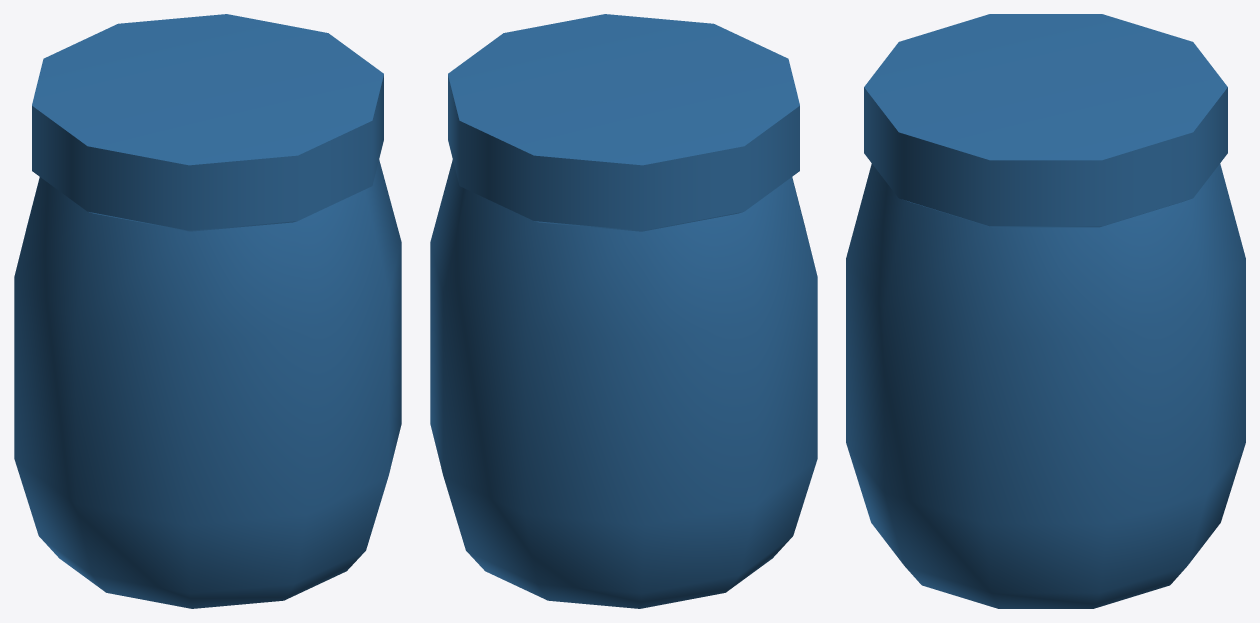
The model's file is mielera.fbx.
3 views of the same model, side by side, from view 1: azimuth 30°, elevation 25°; view 2: azimuth 150°, elevation 25°; view 3: azimuth 270°, elevation 25° (orthographic).
Parts seen in each view (by area): view 1: polySurface2611; view 2: polySurface2611; view 3: polySurface2611.
Boxes of the visible parts, x1,y1,x2,y2 form: polySurface2611: [14, 14, 401, 608]; polySurface2611: [430, 14, 817, 608]; polySurface2611: [846, 14, 1245, 608].
Size of the model in its own units: 0.2418 by 0.3228 by 0.2542.
